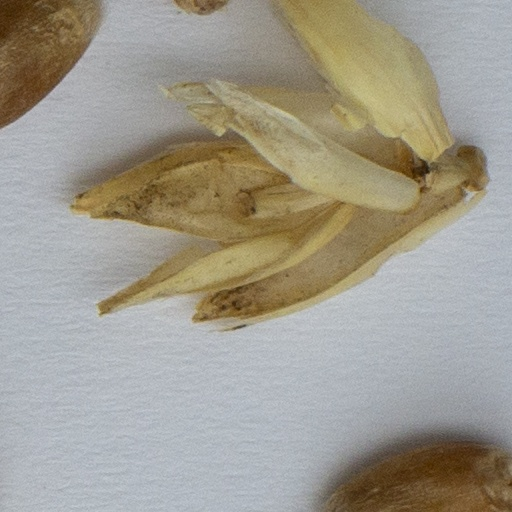Peel-poly: (69, 0, 485, 327)
